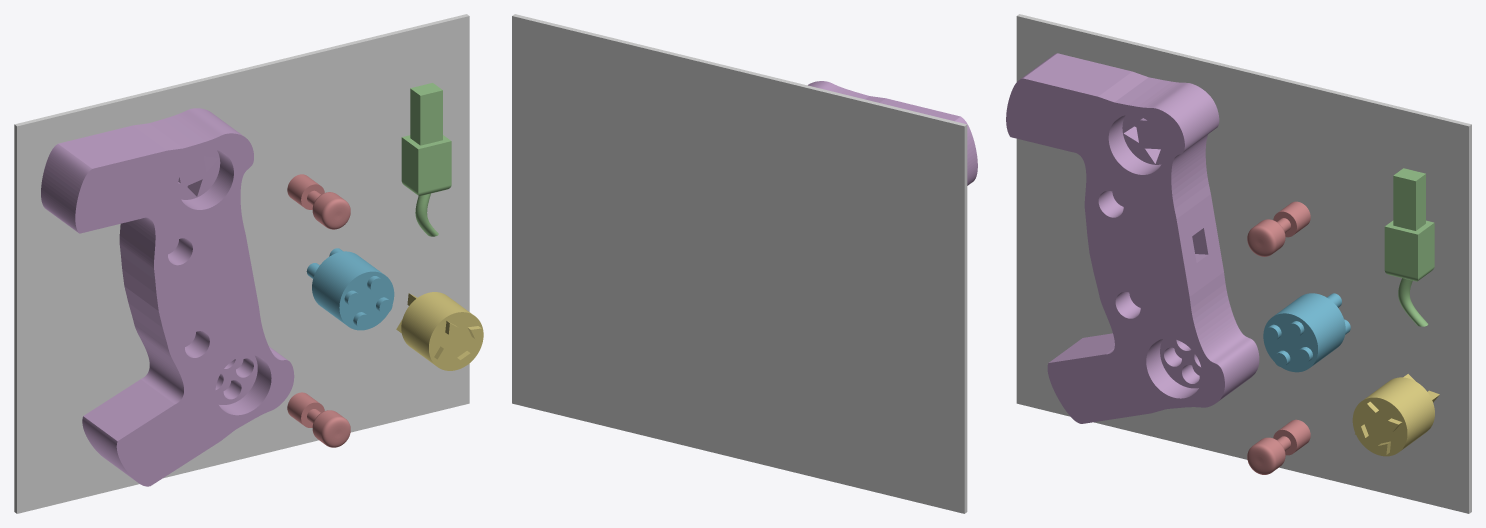
Rendered from pickup_layout.glb.
3 renders of one model, left to right at view 1: azimuth 30°, elevation 25°; view 2: azimuth 150°, elevation 25°; view 3: azimuth 330°, elevation 25°, orthographic.
Visible parts, largest first — view 1: world, 3.obj, 4.obj, 2.obj, 1.obj, 5.obj, 0.obj; view 2: world, 3.obj; view 3: world, 3.obj, 4.obj, 2.obj, 1.obj, 0.obj, 5.obj.
Boxes of the visible parts, left/top/right/bottom form: world: left=14, top=14, right=469, bottom=513; 3.obj: left=41, top=108, right=294, bottom=486; 4.obj: left=401, top=83, right=451, bottom=236; 2.obj: left=306, top=248, right=394, bottom=330; 1.obj: left=396, top=292, right=483, bottom=370; 5.obj: left=287, top=392, right=350, bottom=447; 0.obj: left=287, top=174, right=350, bottom=229; world: left=512, top=14, right=967, bottom=513; 3.obj: left=808, top=81, right=977, bottom=185; world: left=1016, top=14, right=1471, bottom=513; 3.obj: left=1006, top=53, right=1259, bottom=423; 4.obj: left=1384, top=168, right=1434, bottom=326; 2.obj: left=1263, top=293, right=1350, bottom=372; 1.obj: left=1352, top=374, right=1439, bottom=456; 0.obj: left=1247, top=201, right=1310, bottom=256; 5.obj: left=1247, top=419, right=1310, bottom=474.
Bounding box in the file's own units: 18.99 × 15.55 × 3.2.
